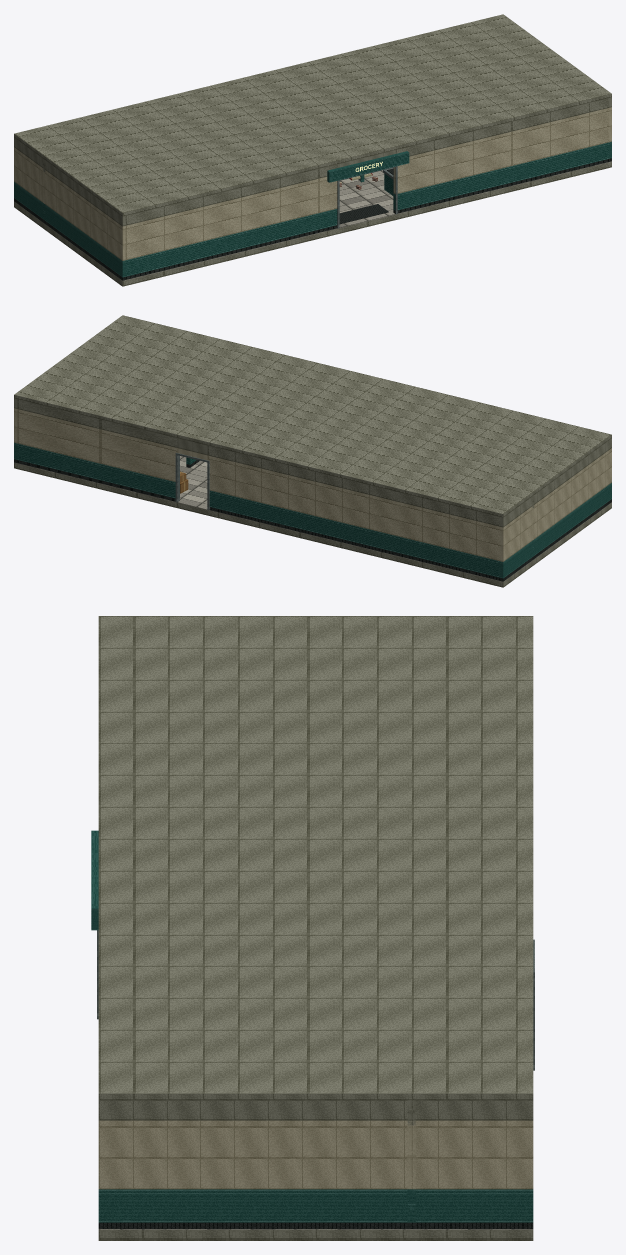
Rendered from market.glb.
3 views of the same model, one above another, from view 1: azimuth 30°, elevation 25°; view 2: azimuth 150°, elevation 25°; view 3: azimuth 270°, elevation 25° (orthographic). The views are drawn at different scales.
Visible parts, largest first — view 1: Ceiling slab-col, Portal wall.006-col, Portal wall.002-col, West wall.002-col, Portal wall.005-col, Foundation-col, Portal wall.001-col, Portal wall.003-col, Portal wall.007-col, West wall.001-col, West wall.003-col, Fascia (+8 smaller); view 2: Ceiling slab-col, Portal wall.010-col, Portal wall.014-col, Portal wall.009-col, West wall.002-col, Foundation-col, Portal wall.011-col, Portal wall.013-col, West wall.001-col, Portal wall.015-col, West wall.003-col, Portal wall.008-col (+3 smaller); view 3: Ceiling slab-col, East wall.002-col, East wall.001-col, East wall.003-col, Foundation-col, East wall-col.
Part boxes in pixels (box(x1,y1,x2,y2)): Ceiling slab-col: box(14, 14, 611, 216); Portal wall.006-col: box(393, 108, 609, 194); Portal wall.002-col: box(125, 177, 337, 259); West wall.002-col: box(14, 147, 125, 260); Portal wall.005-col: box(393, 142, 609, 210); Foundation-col: box(14, 161, 611, 286); Portal wall.001-col: box(125, 209, 337, 276); Portal wall.003-col: box(125, 164, 338, 225); Portal wall.007-col: box(395, 98, 609, 156); West wall.001-col: box(14, 182, 125, 277); West wall.003-col: box(14, 137, 125, 226); Fascia: box(327, 151, 409, 182); Ceiling slab-col: box(14, 315, 611, 517); Portal wall.010-col: box(208, 455, 500, 561); Portal wall.014-col: box(17, 409, 177, 481); Portal wall.009-col: box(209, 490, 500, 577); West wall.002-col: box(500, 448, 611, 561); Foundation-col: box(14, 463, 611, 587); Portal wall.011-col: box(208, 445, 500, 526); Portal wall.013-col: box(17, 443, 175, 498); West wall.001-col: box(500, 483, 611, 578); Portal wall.015-col: box(17, 399, 177, 447); West wall.003-col: box(500, 438, 611, 527); Portal wall.008-col: box(209, 507, 500, 580); Ceiling slab-col: box(98, 616, 533, 1100); East wall.002-col: box(98, 1120, 533, 1189); East wall.001-col: box(98, 1189, 533, 1222); East wall.003-col: box(98, 1100, 533, 1120); Foundation-col: box(98, 1229, 533, 1240); East wall-col: box(98, 1222, 533, 1228).
Bounding box in the file's own units: 26 × 3.73 × 10.22.
31 materials, 27 textured.
